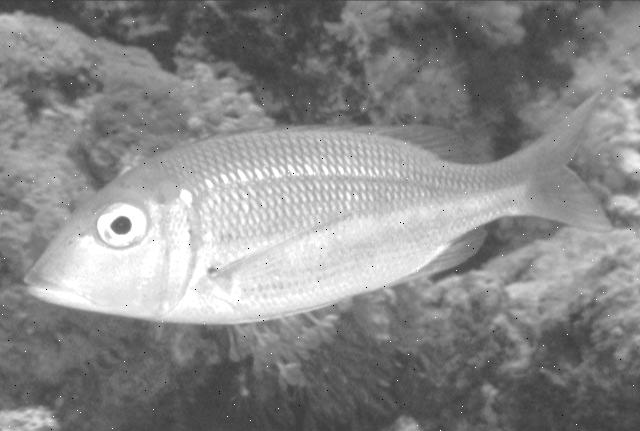Mulut: (10, 244, 94, 338)
Sirip Anal: (411, 196, 512, 300)
Sirip Dada: (204, 186, 372, 300)
Sirip Ekor: (504, 84, 624, 248)
Sirip Punggung: (290, 108, 478, 170)
